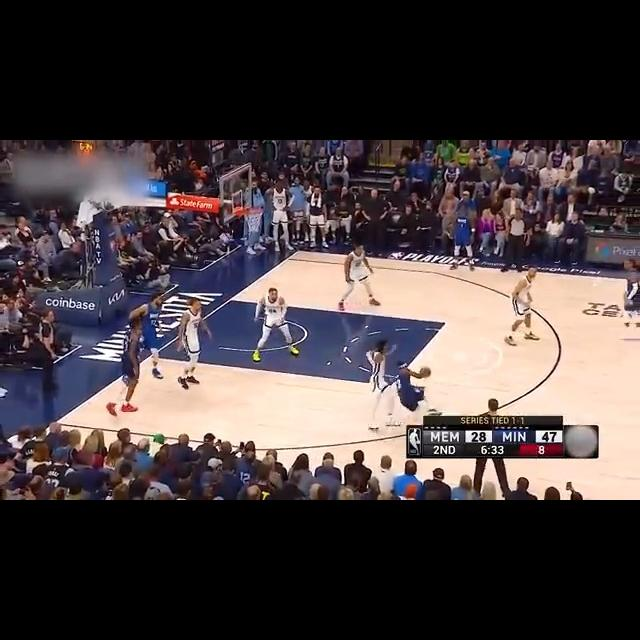basketball: (415, 363, 432, 382)
hoop: (241, 199, 268, 236)
